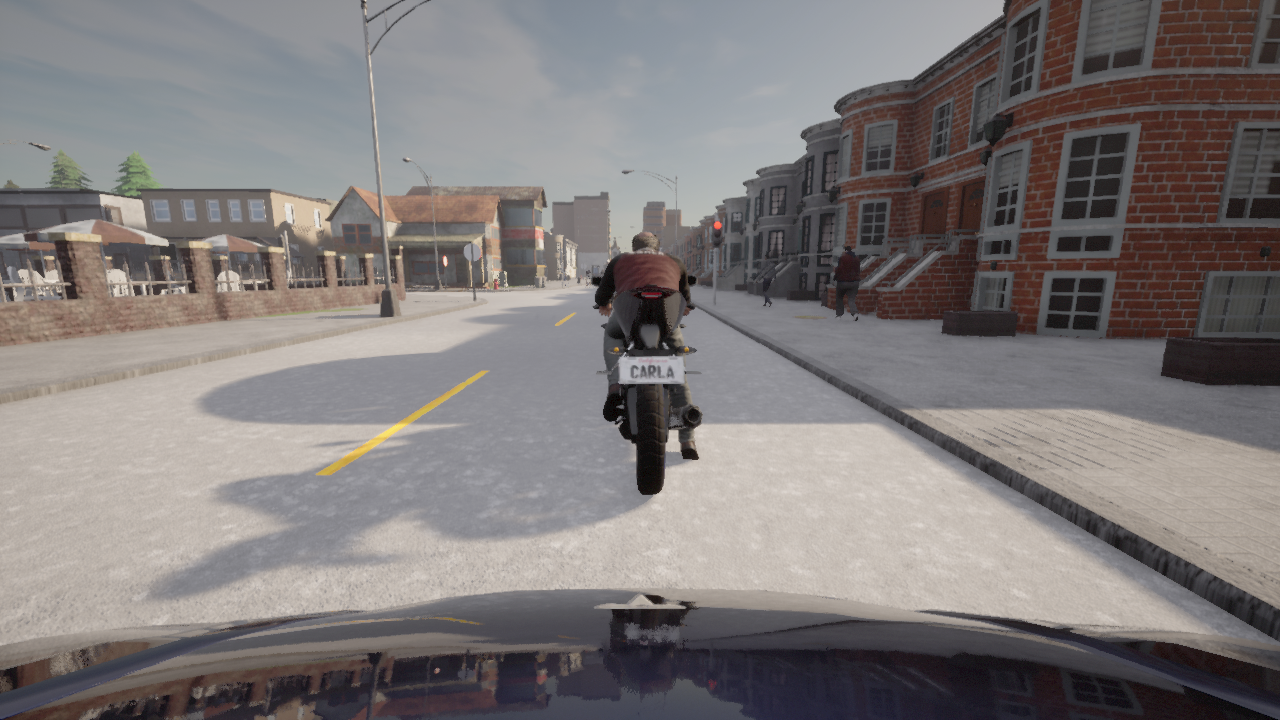cyclist: (0, 588, 1279, 719), (590, 274, 702, 494), (586, 279, 590, 287), (242, 274, 245, 279)
pedestrian: (832, 245, 860, 321), (755, 253, 776, 306), (561, 266, 568, 288), (173, 272, 177, 280)
